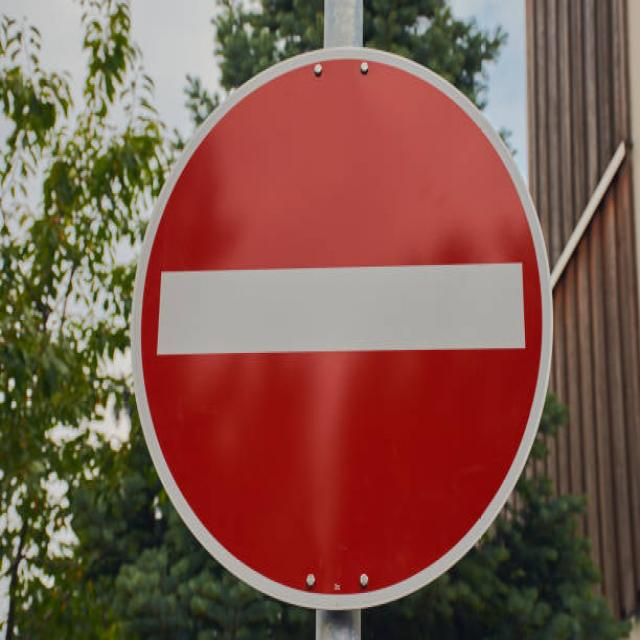do_not_enter: (127, 33, 571, 621)
